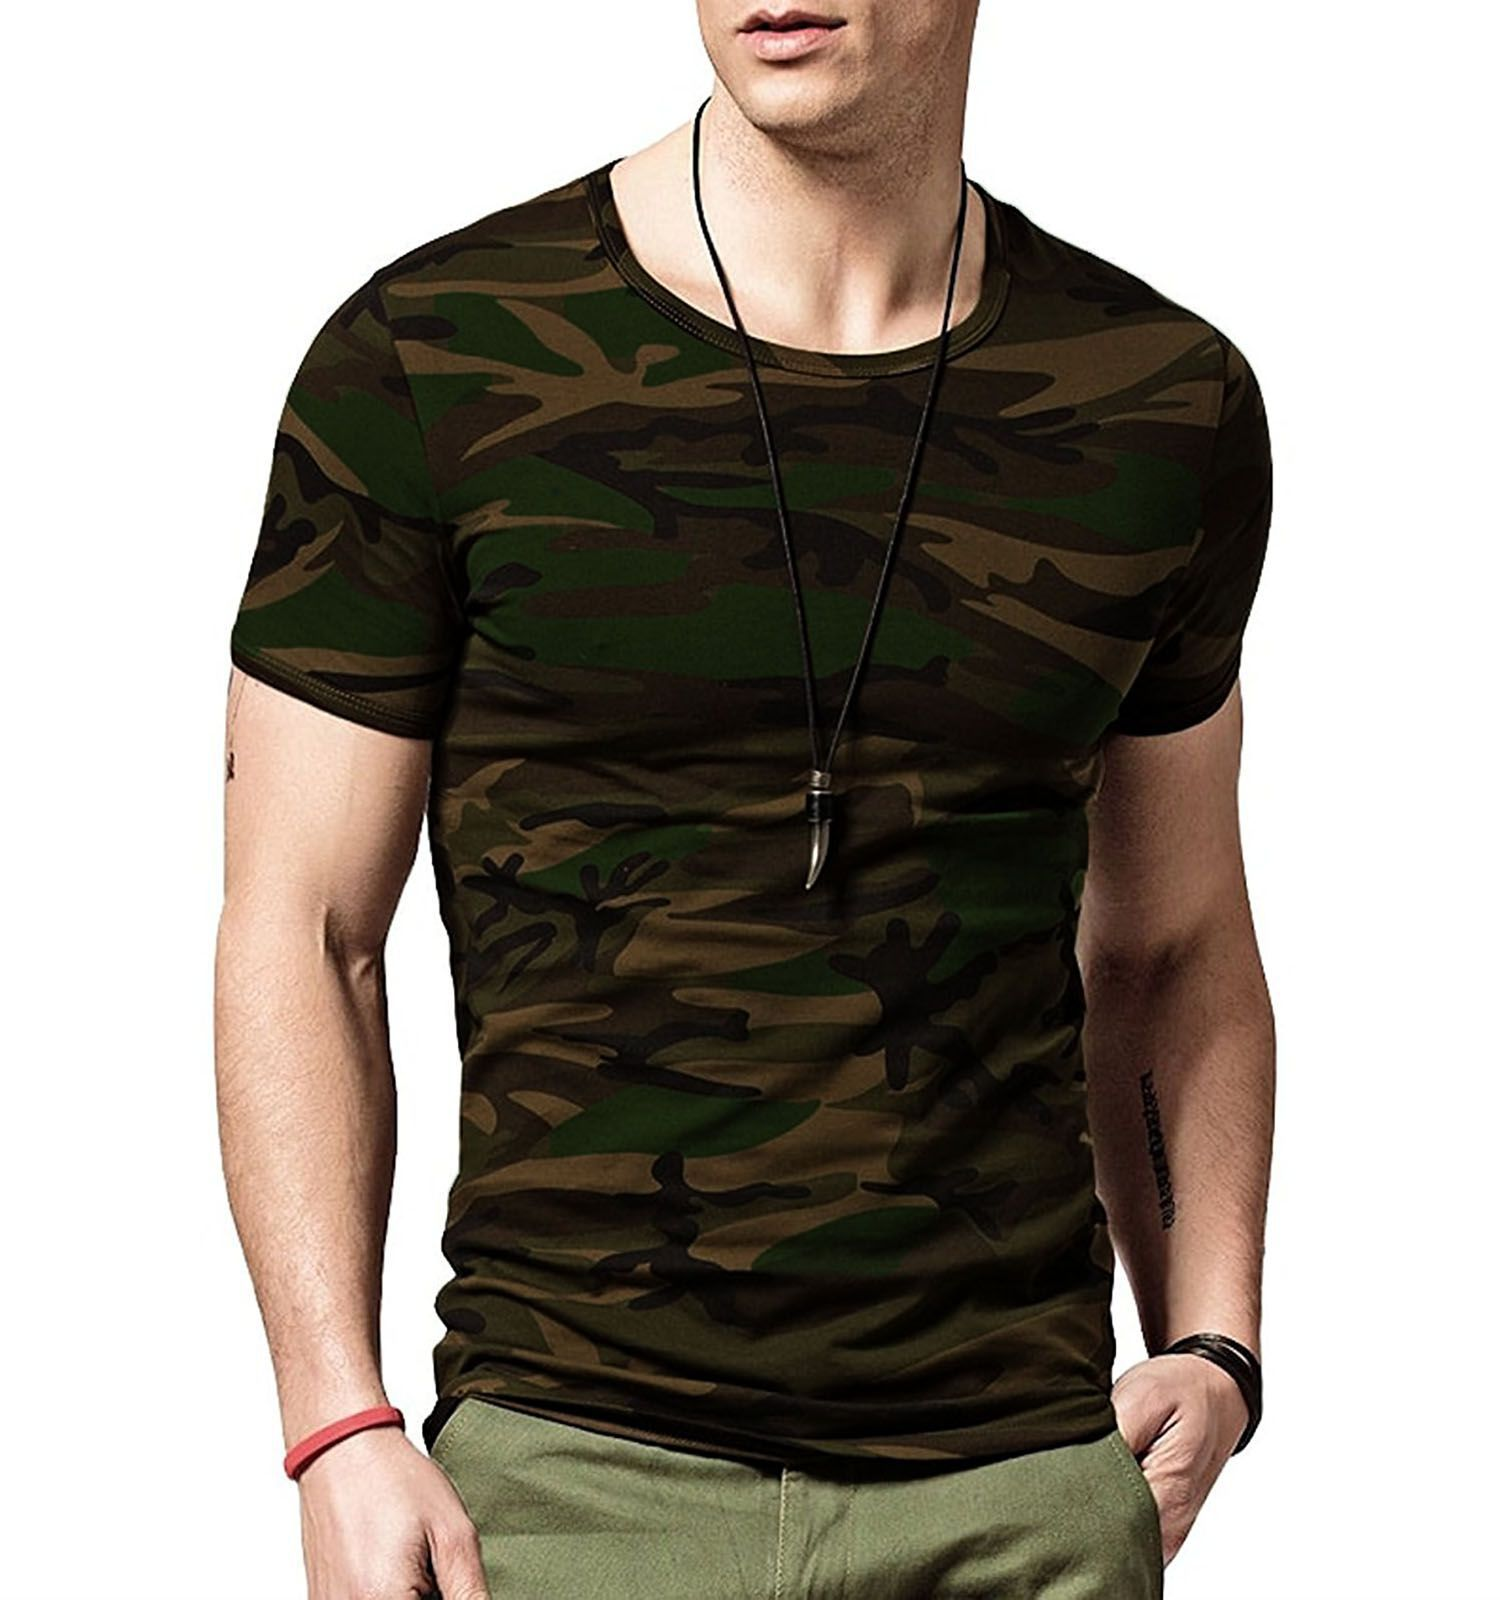T-Shirt: (216, 141, 1365, 1490)
